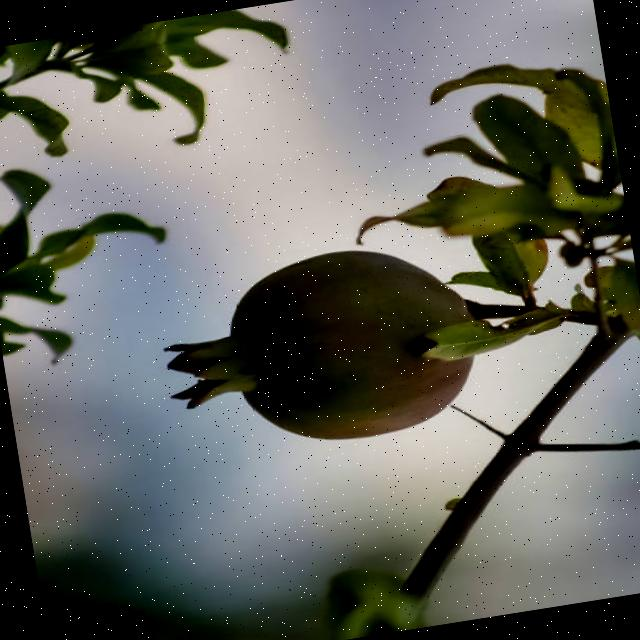Unripe: (145, 230, 490, 468)
